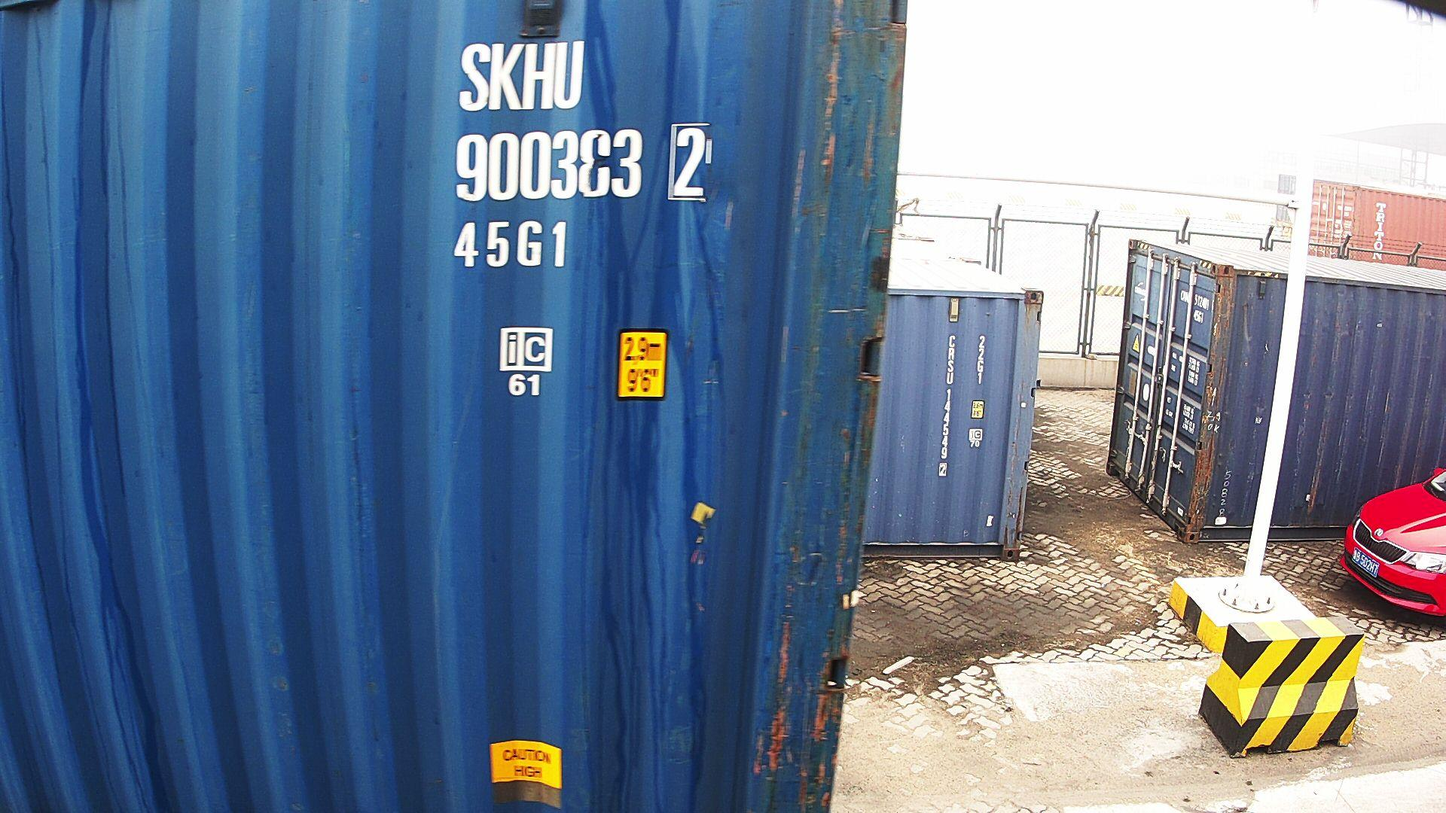container-numbers: (447, 122, 714, 208), (452, 36, 592, 116), (449, 217, 572, 273), (935, 333, 957, 480), (976, 333, 991, 388)
